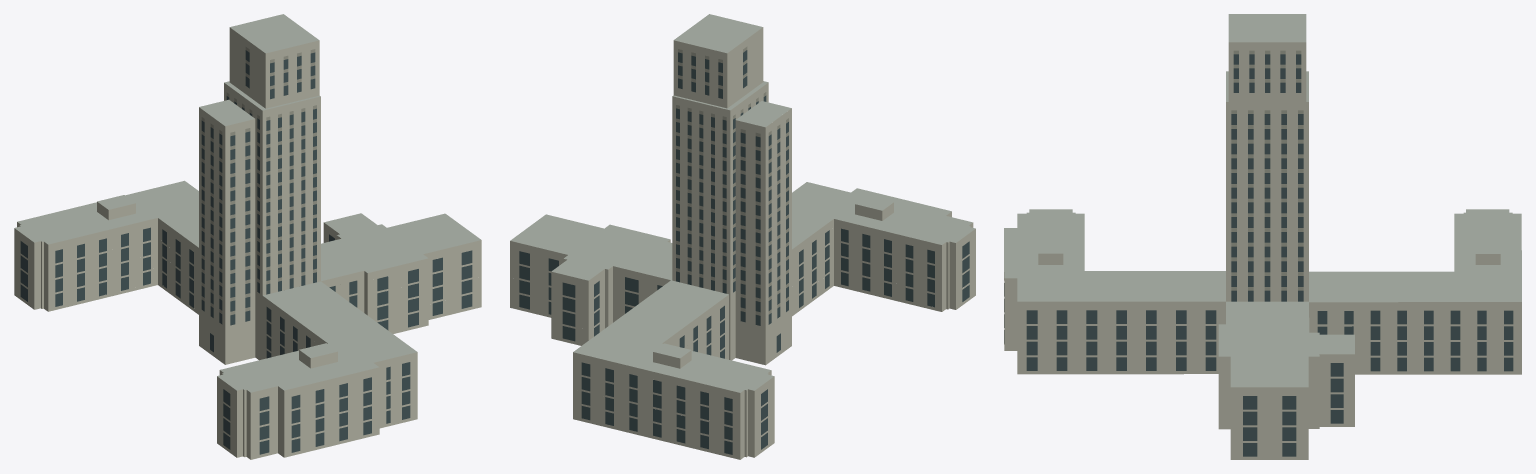
The model's file is walter-reed-tower-bethesda-far.glb.
The picture shows the model from 3 angles, left to right: view 1: azimuth 30°, elevation 25°; view 2: azimuth 150°, elevation 25°; view 3: azimuth 270°, elevation 25°; orthographic projection. The views are drawn at different scales.
Parts seen in each view (by area): view 1: walter-reed-tower-bethesda-0-stone, walter-reed-tower-bethesda-0-roof, walter-reed-tower-bethesda-0-glass, walter-reed-tower-bethesda-0-spandrel; view 2: walter-reed-tower-bethesda-0-stone, walter-reed-tower-bethesda-0-roof, walter-reed-tower-bethesda-0-glass, walter-reed-tower-bethesda-0-spandrel; view 3: walter-reed-tower-bethesda-0-stone, walter-reed-tower-bethesda-0-roof, walter-reed-tower-bethesda-0-glass, walter-reed-tower-bethesda-0-spandrel.
Part boxes in pixels (x1,y1,x2,y2): walter-reed-tower-bethesda-0-stone: (14,27,481,459); walter-reed-tower-bethesda-0-roof: (14,14,480,392); walter-reed-tower-bethesda-0-glass: (20,50,472,454); walter-reed-tower-bethesda-0-spandrel: (201,47,316,315); walter-reed-tower-bethesda-0-stone: (510,27,975,459); walter-reed-tower-bethesda-0-roof: (510,14,975,392); walter-reed-tower-bethesda-0-glass: (519,50,969,454); walter-reed-tower-bethesda-0-spandrel: (676,46,788,315); walter-reed-tower-bethesda-0-stone: (1004,42,1521,459); walter-reed-tower-bethesda-0-roof: (1004,14,1521,387); walter-reed-tower-bethesda-0-glass: (1004,54,1513,456); walter-reed-tower-bethesda-0-spandrel: (1231,50,1303,290).
Size of the model in its own units: 92.69 by 80.46 by 114.
